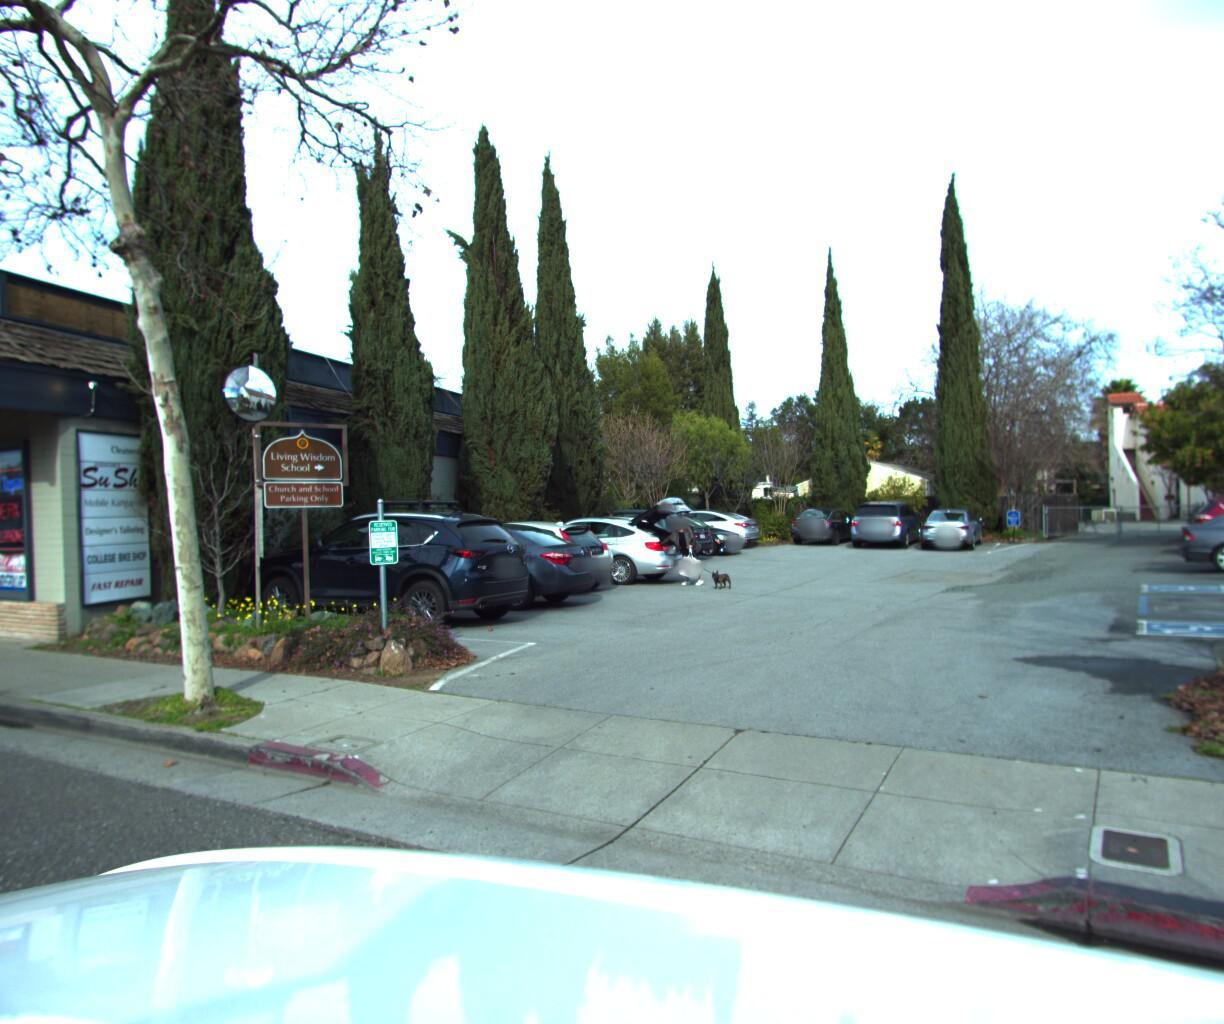car: (222, 492, 549, 637), (341, 518, 611, 611)
